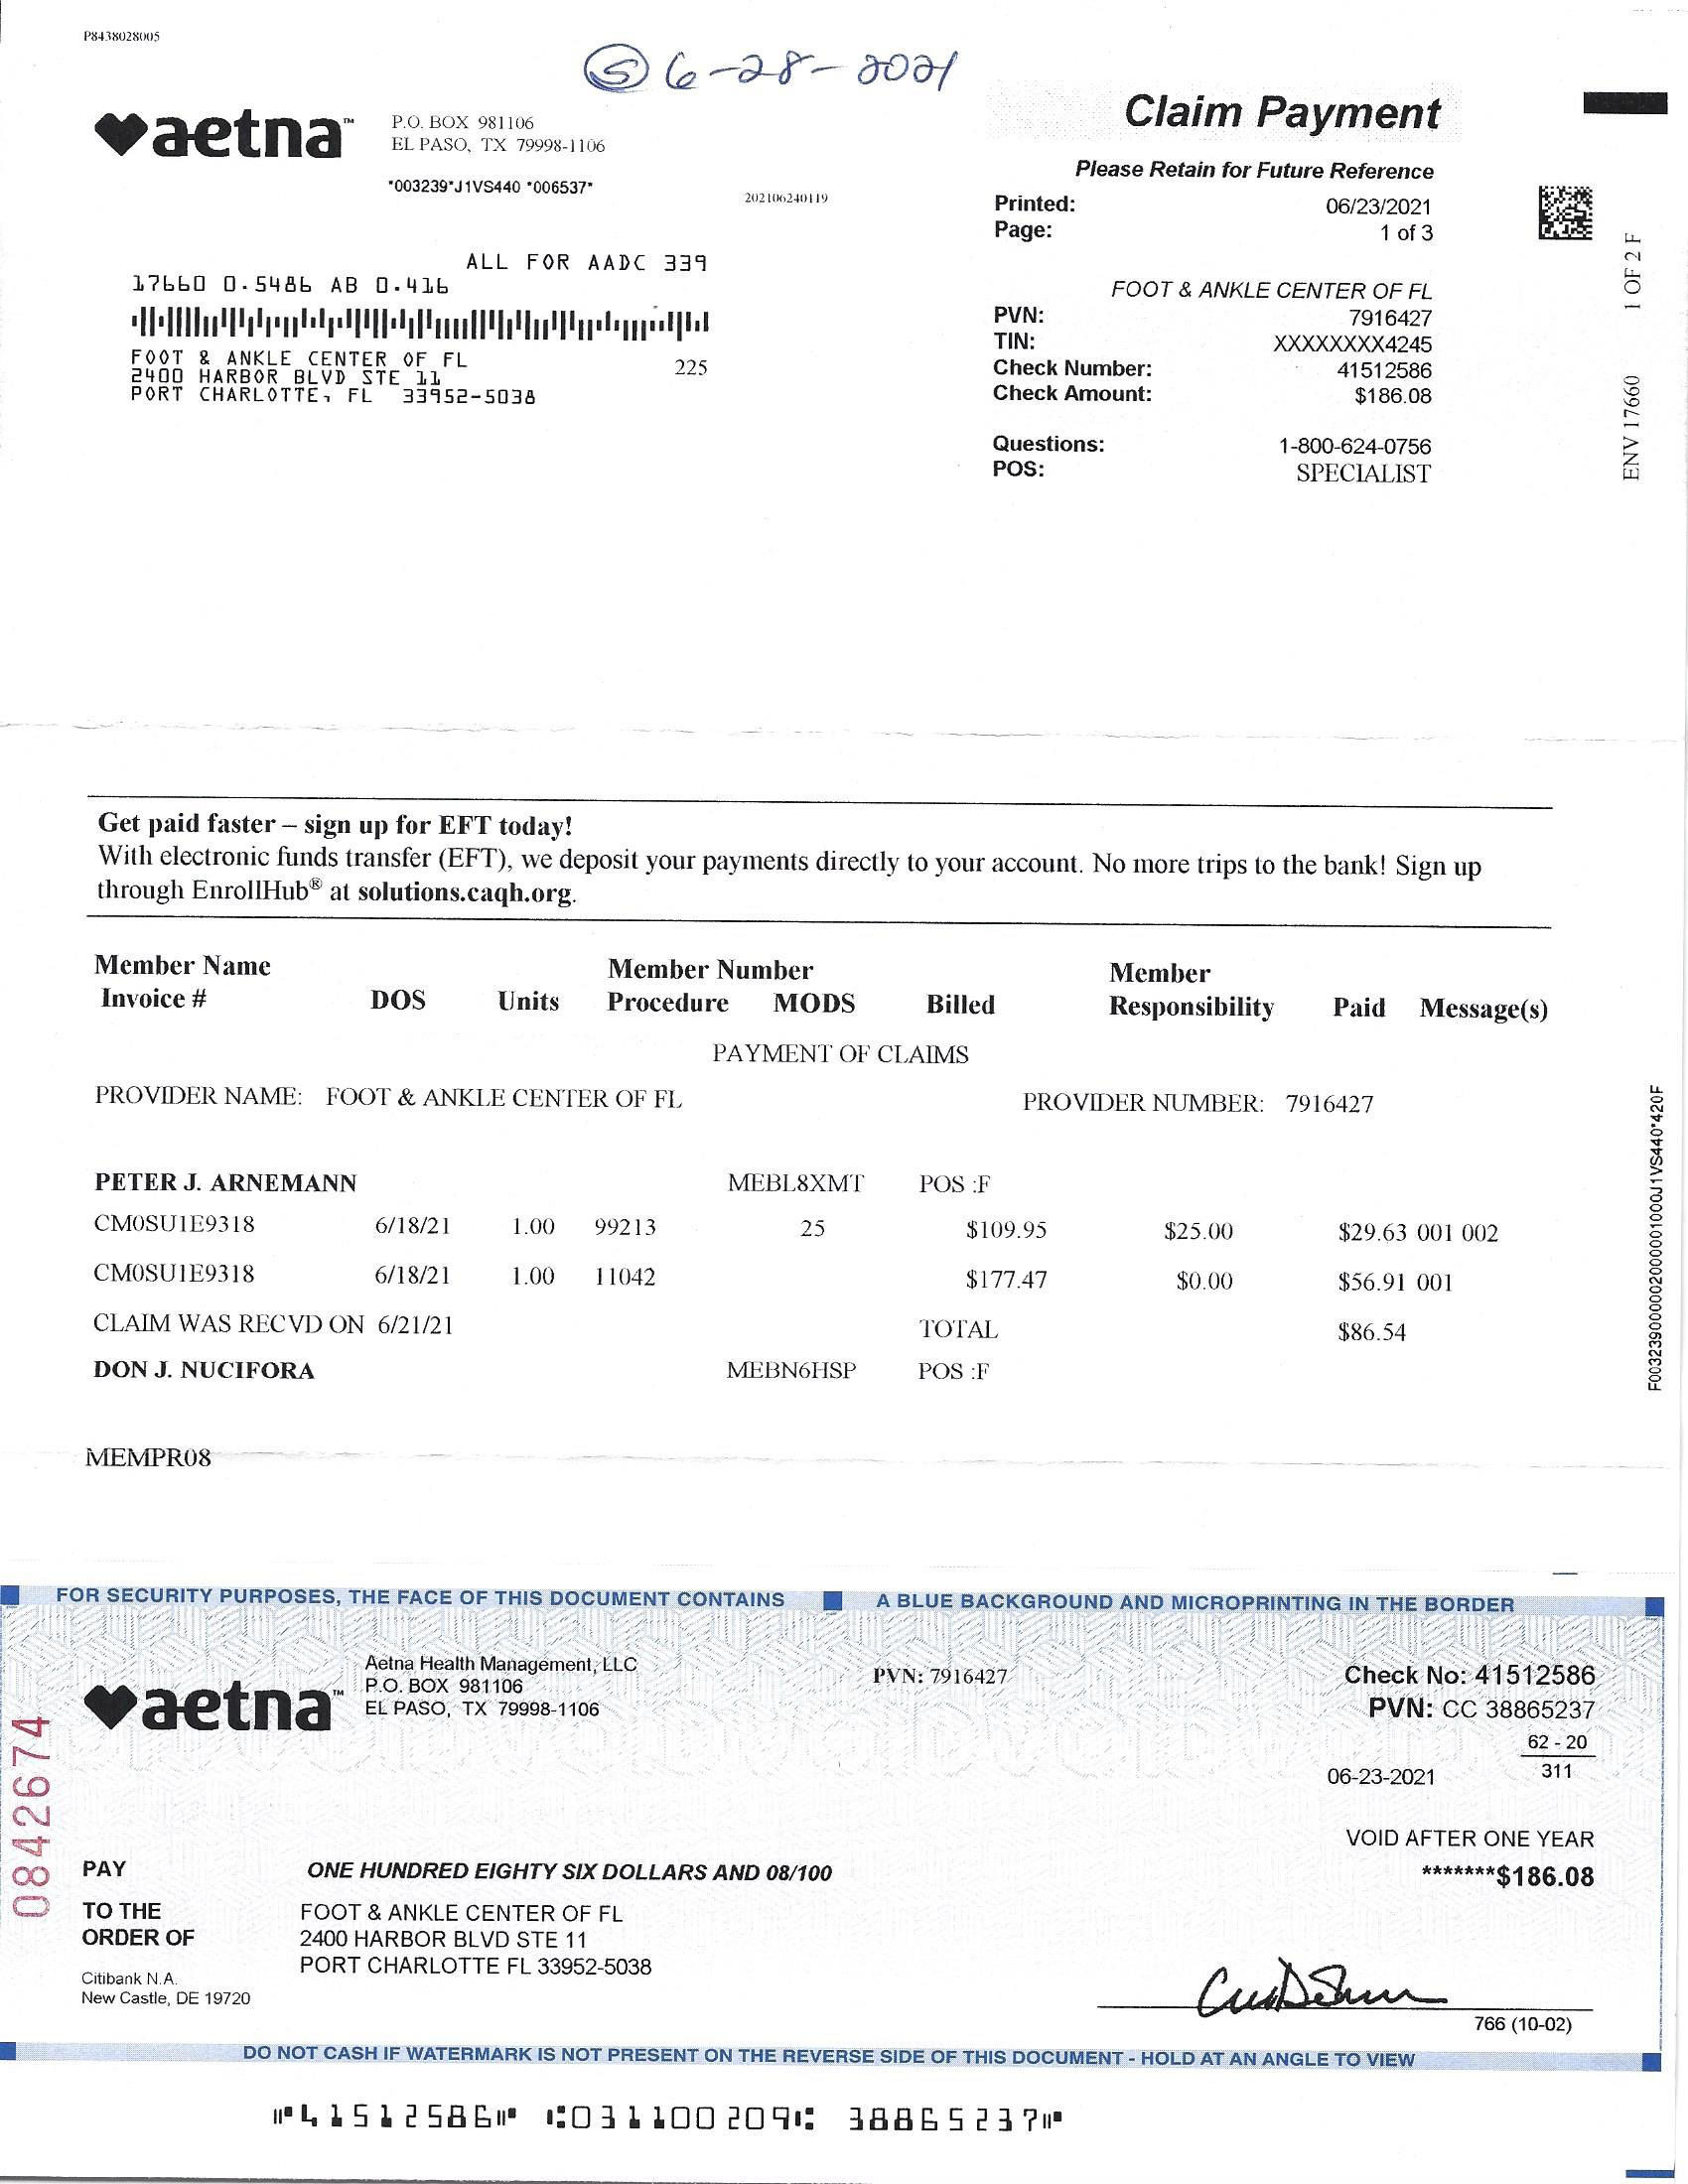data: (975, 190, 1461, 500)
table: (64, 929, 1566, 1360)
